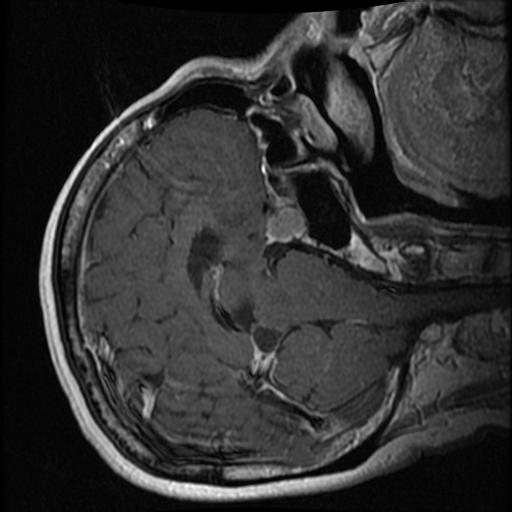pituitary tumour: (265, 206, 301, 244)
